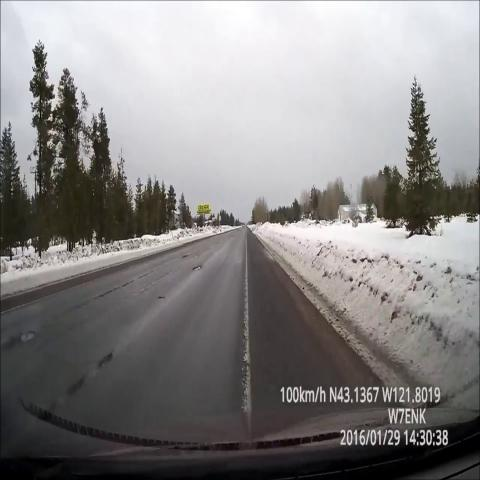pothole: (15, 316, 43, 352), (188, 260, 208, 280), (153, 286, 169, 306), (179, 250, 193, 267)
